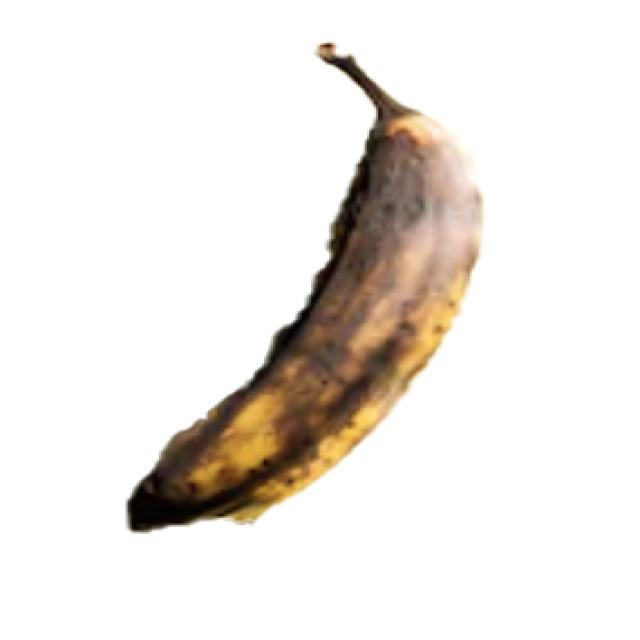rotten-banana: (123, 40, 483, 532)
